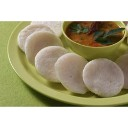idly: (84, 57, 124, 95), (56, 53, 87, 92), (35, 47, 69, 82), (26, 32, 62, 62)
